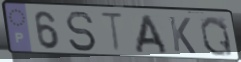6: (33, 10, 62, 51)
A: (133, 13, 170, 55)
K: (167, 15, 198, 56)
Q: (199, 15, 235, 58)
S: (63, 10, 99, 54)
T: (98, 11, 126, 55)
